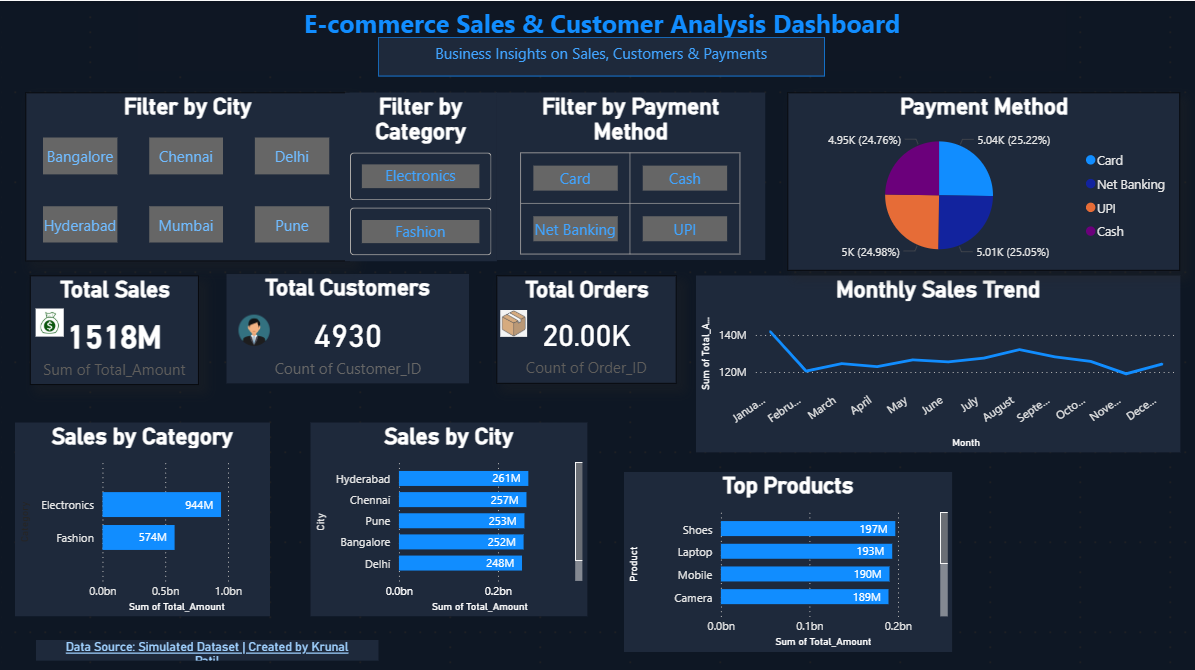

Layout of this report page (visuals, bound fields, positions):
{"tool":"powerbi","page":{"name":"Page 1","canvas":[1280,720],"ordinal":0},"visuals":[{"type":"textbox","box":[146.7,0,990,75],"z":0},{"type":"card","title":"Total Sales","fields":{"Values":["Sum(orders.Total_Amount)"]},"box":[31.7,293.3,180,116.7],"z":1000},{"type":"textbox","box":[403.3,38.3,476.7,41.7],"z":2000},{"type":"card","title":"Total Orders","fields":{"Values":["CountNonNull(orders.Order_ID)"]},"box":[530,293.3,191.7,115],"z":3000},{"type":"card","title":"Total Customers","fields":{"Values":["Count(orders.Customer_ID)"]},"box":[241.7,291.7,258.3,116.7],"z":4000},{"type":"image","box":[31.7,328.3,41.7,30],"z":5000},{"type":"image","box":[530,330,36.7,28.3],"z":6000},{"type":"image","box":[255,331.7,33.3,40],"z":7000},{"type":"clusteredBarChart","title":"Sales by Category","fields":{"Category":["orders.Category"],"Y":["Sum(orders.Total_Amount)"]},"box":[16.7,450,271.7,206.7],"z":8000},{"type":"clusteredBarChart","title":"Sales by City","fields":{"Category":["orders.City"],"Y":["Sum(orders.Total_Amount)"]},"box":[331.7,450,295,206.7],"z":9000},{"type":"lineChart","title":"Monthly Sales Trend","fields":{"Category":["orders.Order_Date.Variation.Date Hierarchy.Month"],"Y":["Sum(orders.Total_Amount)"]},"box":[741.7,293.3,516.7,188.3],"z":10000},{"type":"clusteredBarChart","title":"Top Products","fields":{"Category":["orders.Product"],"Y":["Sum(orders.Total_Amount)"]},"box":[665,501.7,350,191.7],"z":11000},{"type":"pieChart","title":"Payment Method","fields":{"Category":["payments.Payment_Method"],"Y":["CountNonNull(payments.Payment_ID)"]},"box":[840,98.3,418.3,190],"z":12000},{"type":"advancedSlicerVisual","title":"Filter by City","fields":{"Values":["orders.City"]},"box":[26.7,98.3,345,180],"z":13000},{"type":"advancedSlicerVisual","title":"Filter by Category","fields":{"Values":["orders.Category"]},"box":[368.3,98.3,161.7,180],"z":14000},{"type":"advancedSlicerVisual","title":"Filter by Payment Method","fields":{"Values":["payments.Payment_Method"]},"box":[530,98.3,286.7,178.3],"z":15000},{"type":"textbox","title":"Data Source: Simulated Dataset | Created by Krunal Patil","box":[38.3,681.7,365,21.7],"z":15001}]}

Visuals, with their boxes in screenshot pixels (x1, y1, x2, y2), scaled from the page's 1280x720 canvas onto the 1195x670 screenshot:
textbox: crop(137, 0, 1061, 70)
"Total Sales" card: crop(30, 273, 198, 382)
textbox: crop(377, 36, 822, 74)
"Total Orders" card: crop(495, 273, 674, 380)
"Total Customers" card: crop(226, 271, 467, 380)
image: crop(30, 306, 69, 333)
image: crop(495, 307, 529, 333)
image: crop(238, 309, 269, 346)
"Sales by Category" clusteredBarChart: crop(16, 419, 269, 611)
"Sales by City" clusteredBarChart: crop(310, 419, 585, 611)
"Monthly Sales Trend" lineChart: crop(692, 273, 1175, 448)
"Top Products" clusteredBarChart: crop(621, 467, 948, 645)
"Payment Method" pieChart: crop(784, 91, 1175, 268)
"Filter by City" advancedSlicerVisual: crop(25, 91, 347, 259)
"Filter by Category" advancedSlicerVisual: crop(344, 91, 495, 259)
"Filter by Payment Method" advancedSlicerVisual: crop(495, 91, 762, 257)
"Data Source: Simulated Dataset | Created by Krunal Patil" textbox: crop(36, 634, 377, 655)
